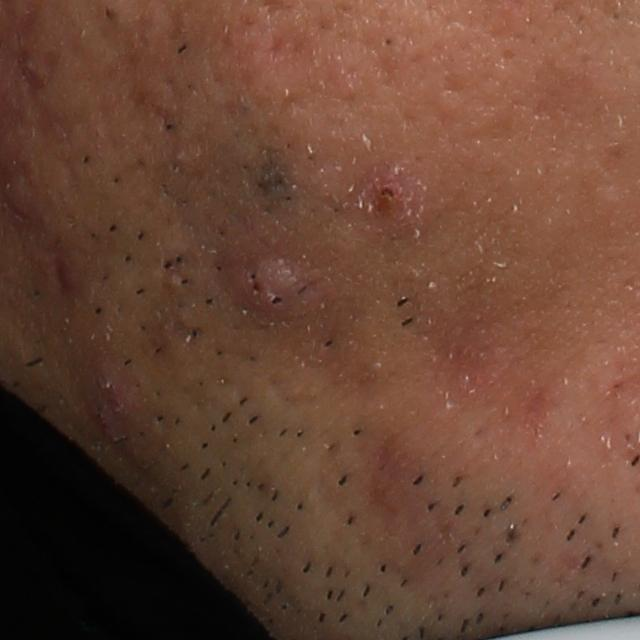atrophic_scar: (258, 29, 292, 60)
comedo: (380, 33, 397, 53)
nevus: (243, 145, 300, 222)
papule: (213, 246, 341, 348), (357, 156, 415, 223), (83, 361, 139, 421)
